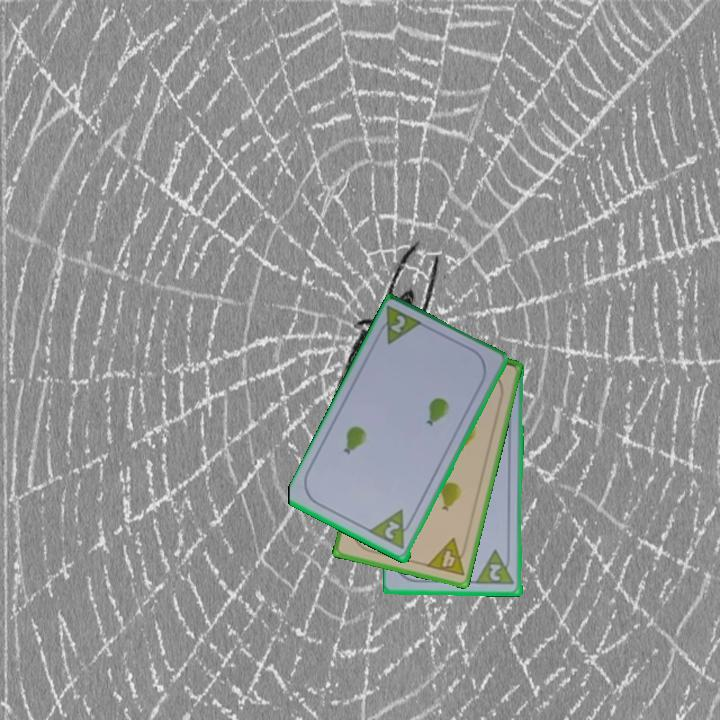2p: (367, 506, 418, 553), (474, 547, 517, 588), (387, 312, 409, 337)
4p: (423, 535, 471, 579)
